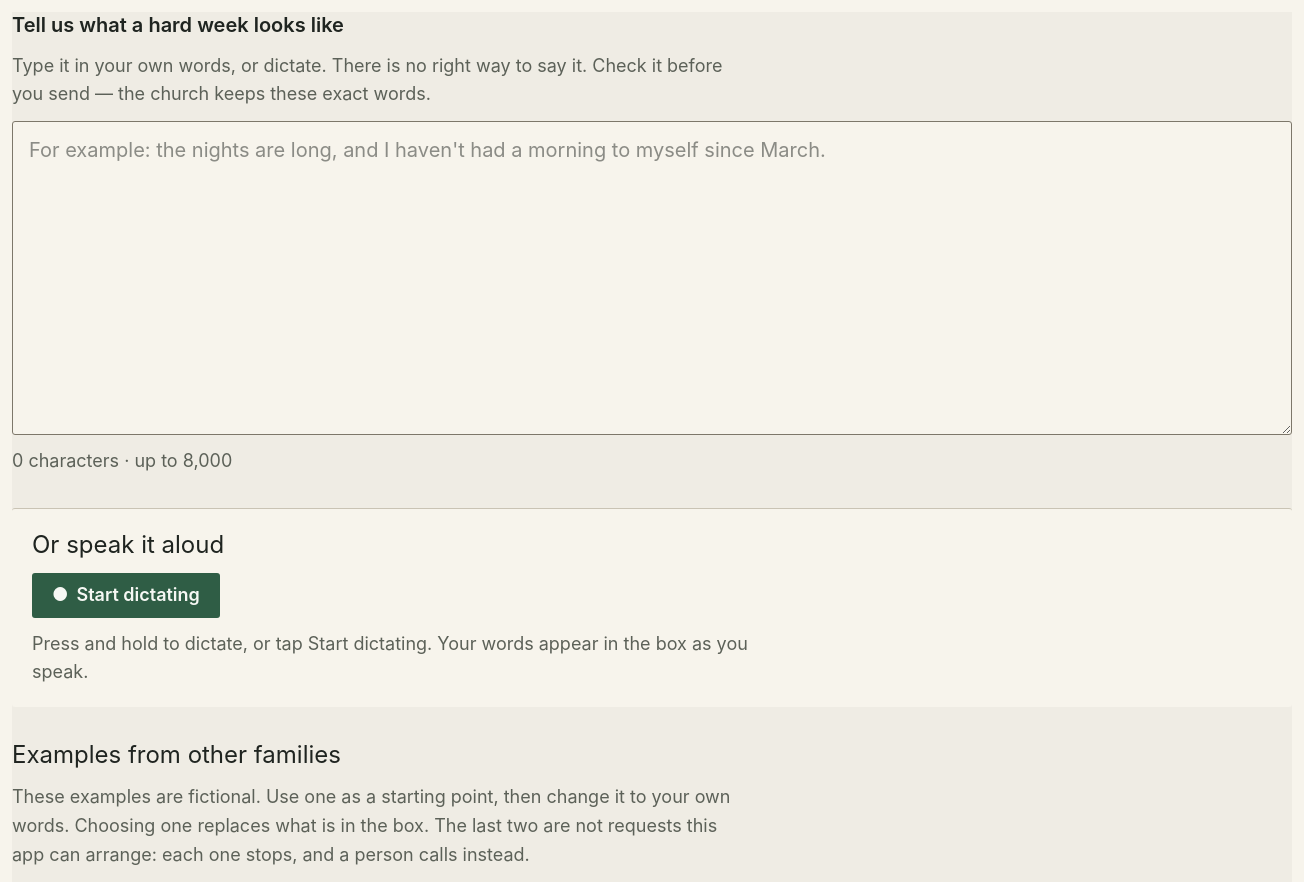
Test: AskForm dictation › survives a microphone refusal and leaves typing usable
This screenshot has width=1304, height=882.
Later steps or results of the test are not shown.
Click the button "● Start dictating".
click(126, 595)  # box [32, 573, 220, 618]
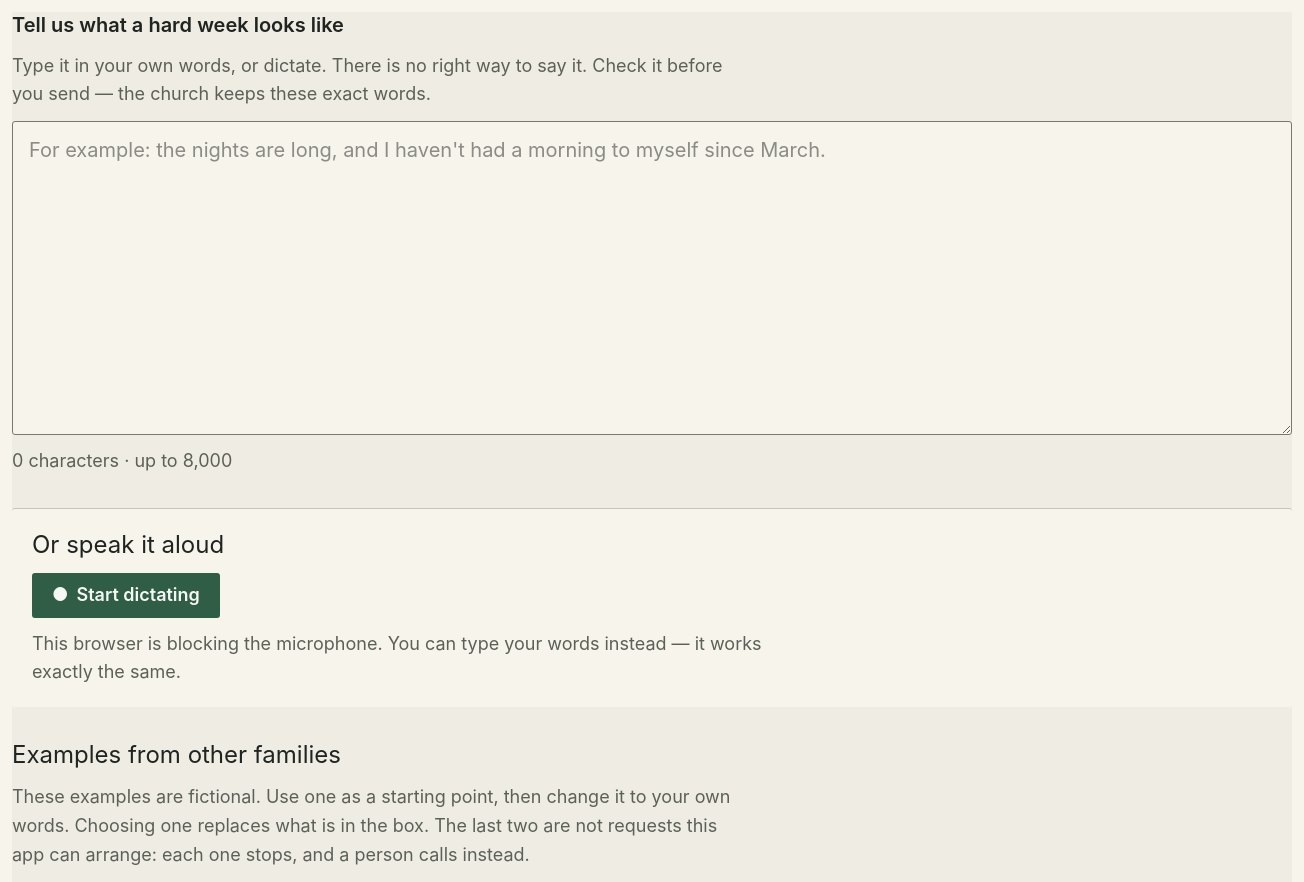
Expected: the text "blocking the microphone" is shown, [32, 633, 762, 682]
